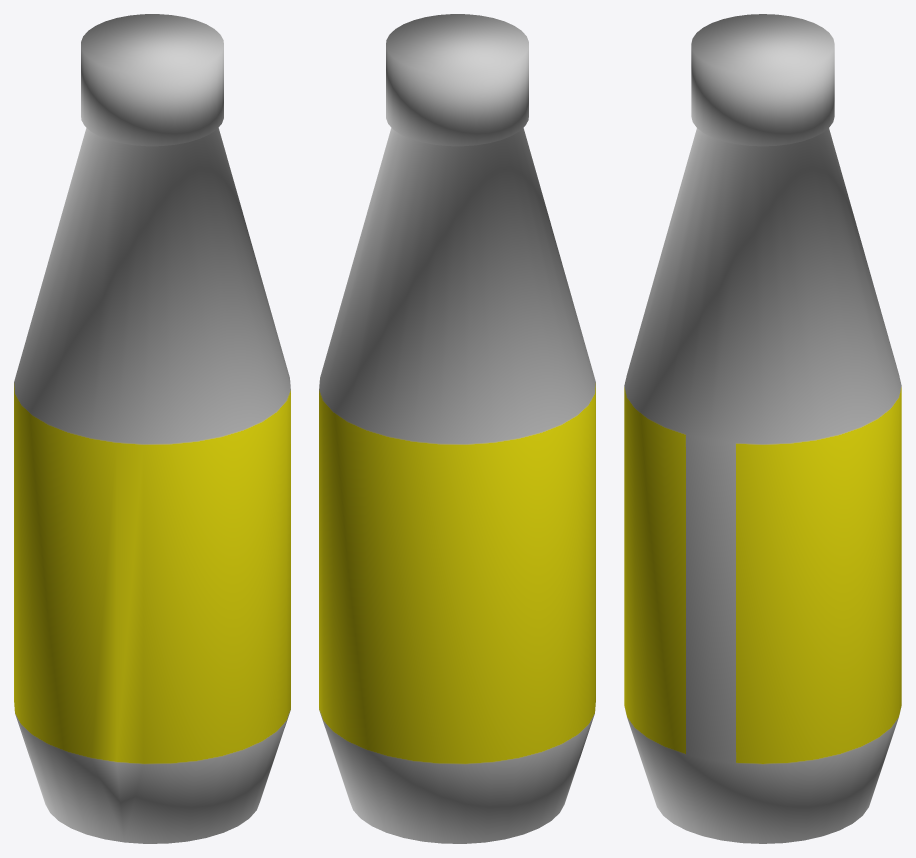
The model's file is yellowBottle.fbx.
The picture shows the model from 3 angles, left to right: view 1: azimuth 30°, elevation 25°; view 2: azimuth 150°, elevation 25°; view 3: azimuth 270°, elevation 25°; orthographic projection.
Parts seen in each view (by area): view 1: Cylinder; view 2: Cylinder; view 3: Cylinder.
Part boxes in pixels (x1,y1,x2,y2): Cylinder: (14, 14, 290, 843); Cylinder: (319, 14, 595, 843); Cylinder: (624, 14, 901, 843).
Bounding box in the file's own units: 0.06 × 0.06 × 0.18.
